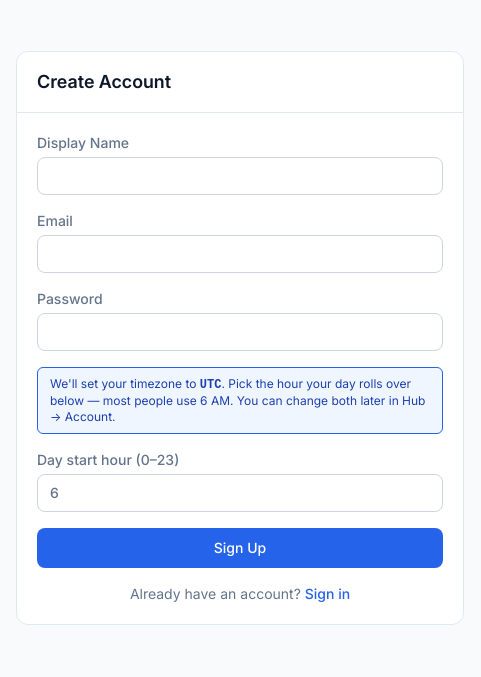
Signup › shows validation error when display name is empty
In the field labelled "Email": (240, 254) [37,235,443,273], type "user@example.com"
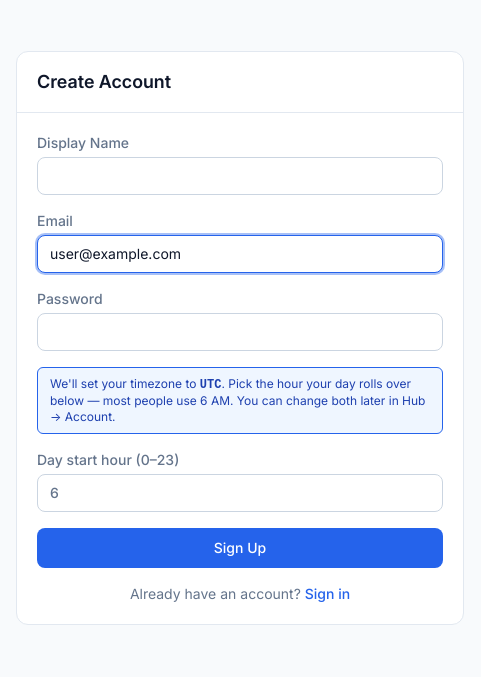
In the password field labelled "Password": (240, 332) [37,313,443,351], type "password99"
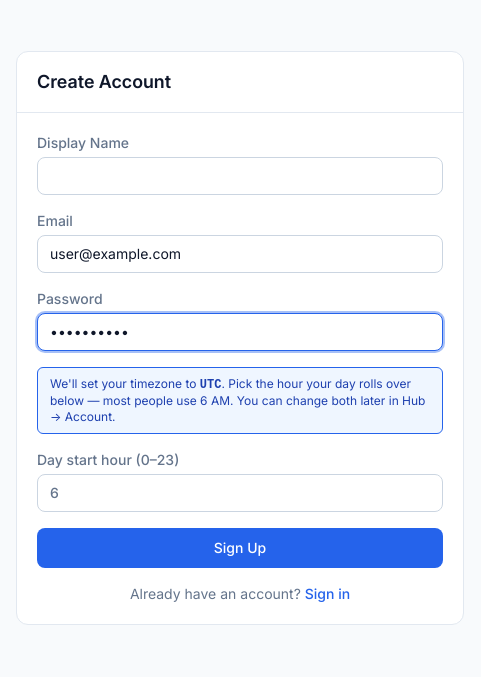
Click the button "Sign Up": click(240, 548) [37,528,443,568]
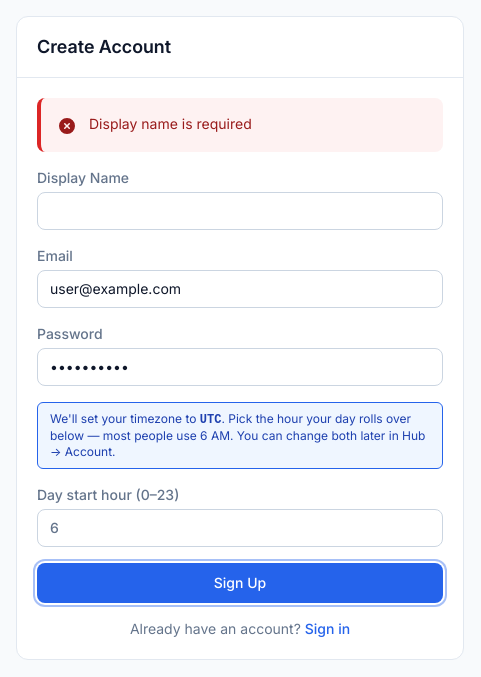
Expected: the text "Display name is required" is shown, [89,115,252,132]
